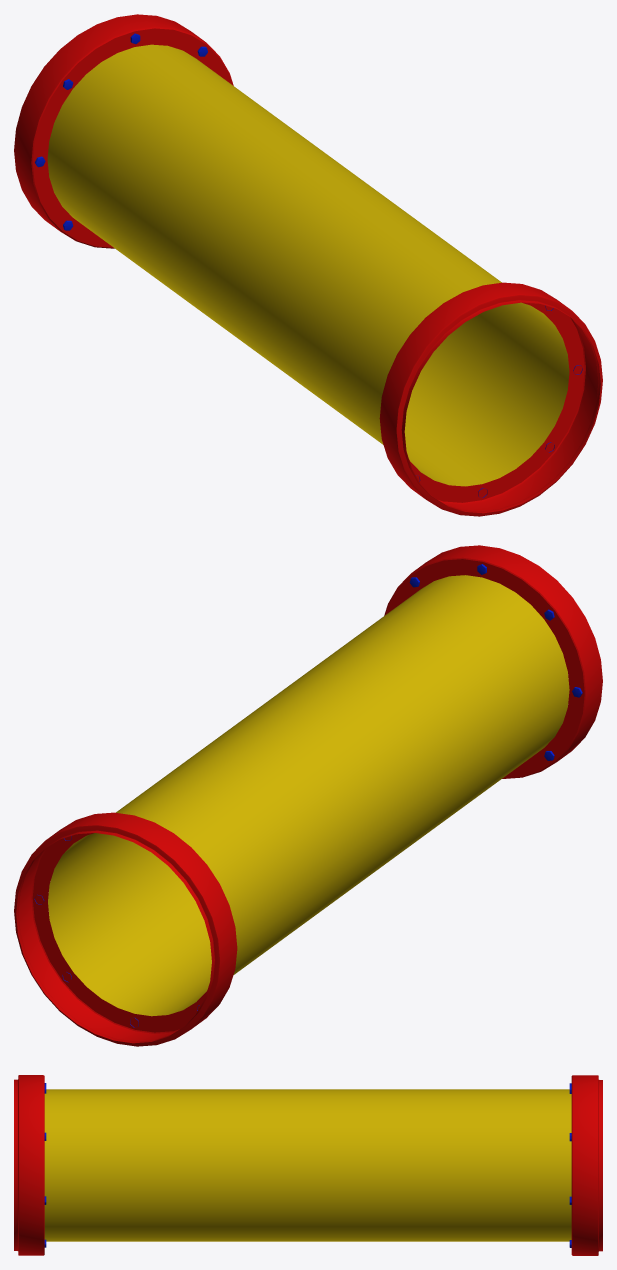
The model's file is sub_1Pipe.fbx.
The picture shows the model from 3 angles, top to bottom: view 1: azimuth 30°, elevation 25°; view 2: azimuth 150°, elevation 25°; view 3: azimuth 270°, elevation 25°; orthographic projection. The views are drawn at different scales.
Visible parts, largest first — view 1: sub_1Pipe; view 2: sub_1Pipe; view 3: sub_1Pipe.
Part boxes in pixels (x1,y1,x2,y2): sub_1Pipe: [14, 14, 602, 516]; sub_1Pipe: [14, 545, 602, 1046]; sub_1Pipe: [14, 1075, 602, 1255].
Bounding box in the file's own units: 50.67 × 50.56 × 165.
